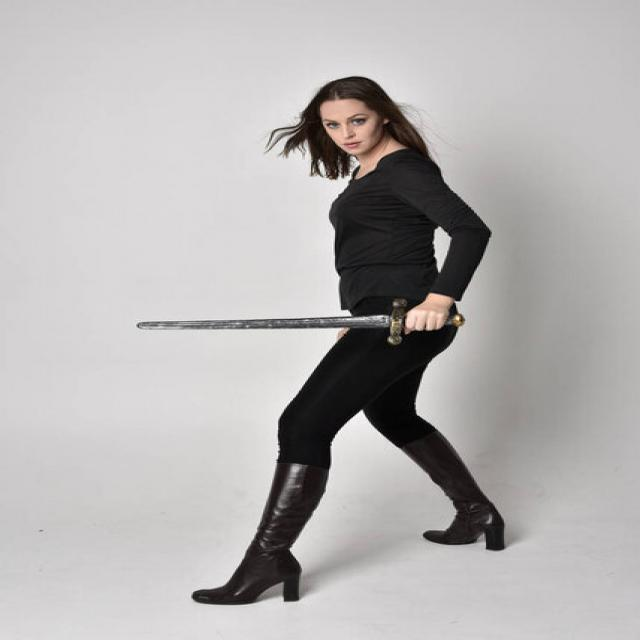long sword: (127, 293, 483, 342)
